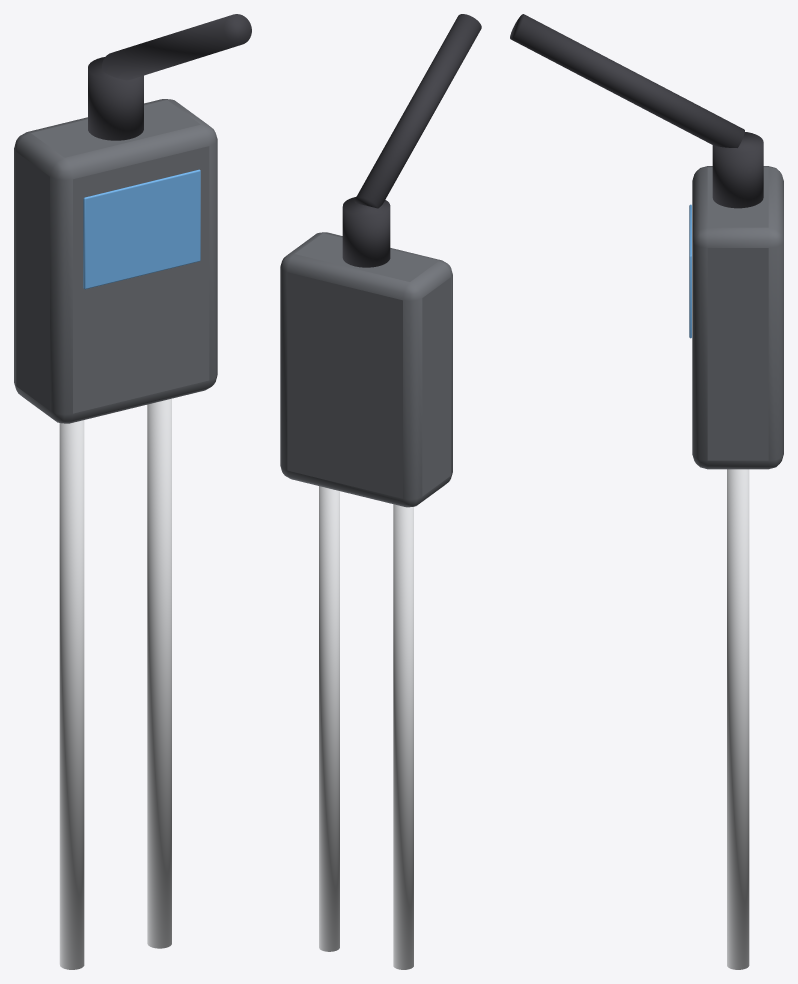
File: sensor_humedad.glb
3 renders of one model, left to right at view 1: azimuth 30°, elevation 25°; view 2: azimuth 150°, elevation 25°; view 3: azimuth 270°, elevation 25°, orthographic. The views are drawn at different scales.
Visible parts, largest first — view 1: Sensor_Head, Probe_Left, Probe_Right, Sensor_Label, Cable, Cable_Gland; view 2: Sensor_Head, Probe_Left, Probe_Right, Cable, Cable_Gland; view 3: Sensor_Head, Probe_Right, Cable, Cable_Gland.
Boxes of the visible parts, <box> form: Sensor_Head: <box>14,99,217,423</box>; Probe_Left: <box>59,420,84,969</box>; Probe_Right: <box>147,398,171,948</box>; Sensor_Label: <box>83,169,200,289</box>; Cable: <box>102,14,251,80</box>; Cable_Gland: <box>88,57,143,140</box>; Sensor_Head: <box>280,232,452,507</box>; Probe_Left: <box>393,504,413,969</box>; Probe_Right: <box>319,486,339,951</box>; Cable: <box>354,14,481,208</box>; Cable_Gland: <box>342,197,390,267</box>; Sensor_Head: <box>692,166,783,469</box>; Probe_Right: <box>727,469,749,969</box>; Cable: <box>510,14,744,147</box>; Cable_Gland: <box>712,132,763,208</box>.
Size of the model in its own units: 0.034 by 0.2014 by 0.0538.
